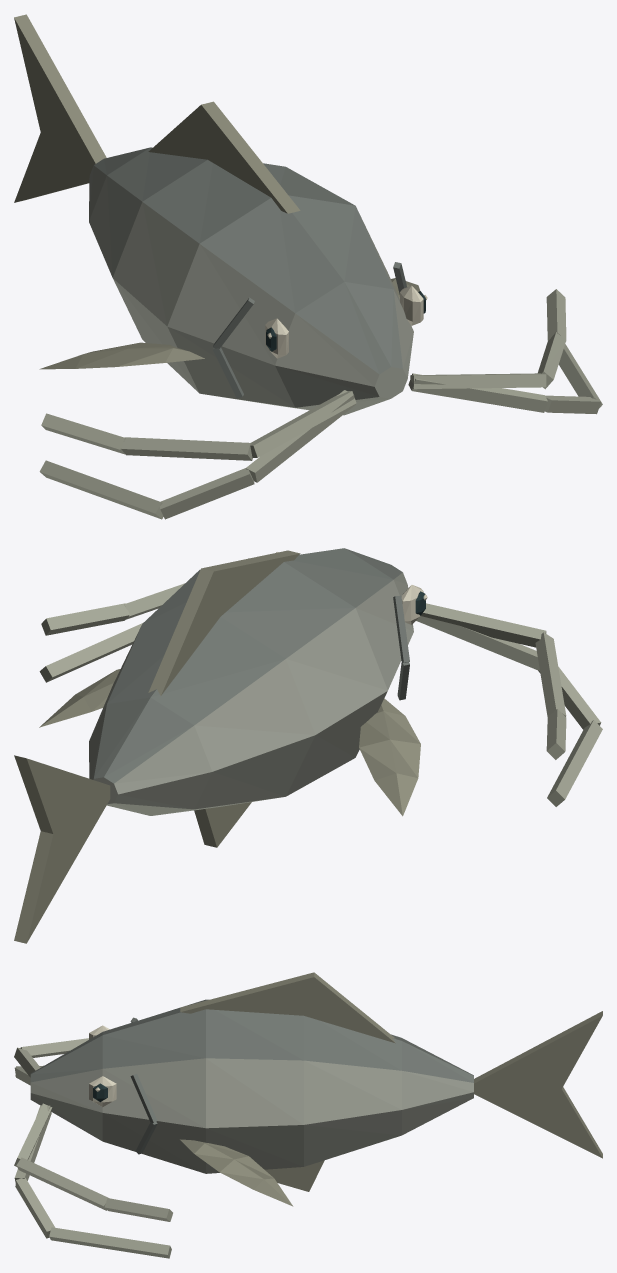
File: fish_stonebarbel.glb
The picture shows the model from 3 angles, top to bottom: view 1: azimuth 30°, elevation 25°; view 2: azimuth 150°, elevation 25°; view 3: azimuth 270°, elevation 25°; orthographic projection. The views are drawn at different scales.
Visible parts, largest first — view 1: fish; view 2: fish; view 3: fish.
Part boxes in pixels (left/top/right/bottom): fish: left=14, top=14, right=602, bottom=519; fish: left=14, top=548, right=602, bottom=943; fish: left=14, top=972, right=602, bottom=1258.
Bounding box in the file's own units: 0.5813 × 0.2946 × 0.7311.
